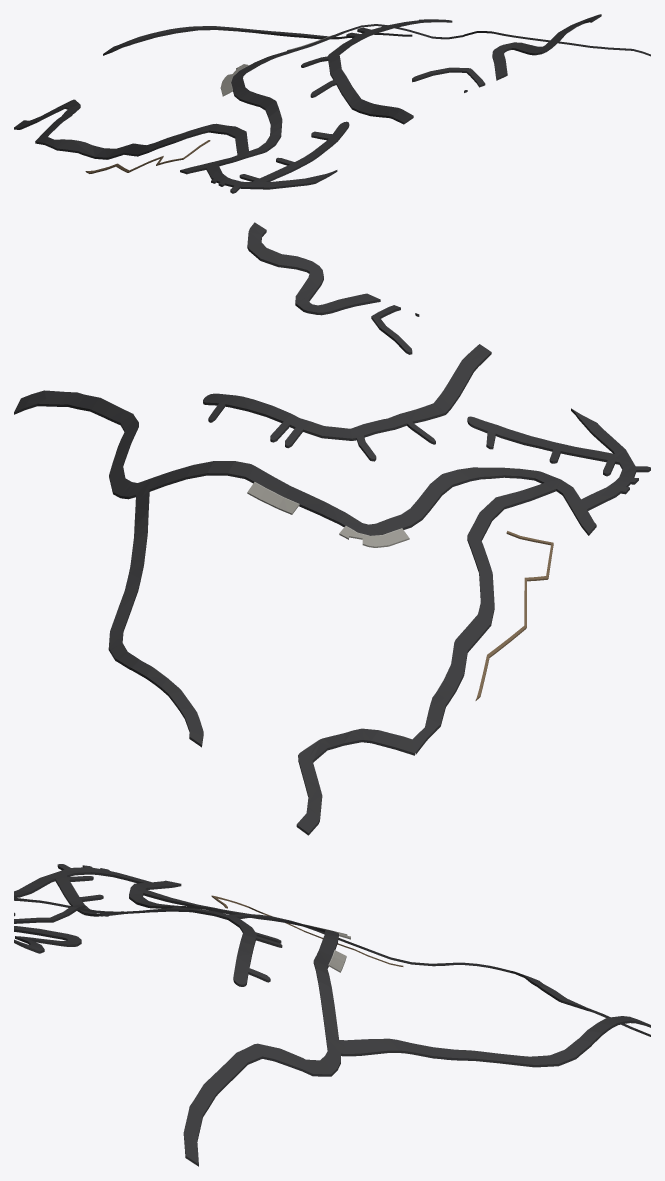
3 renders of one model, top to bottom at view 1: azimuth 30°, elevation 25°; view 2: azimuth 150°, elevation 25°; view 3: azimuth 270°, elevation 25°, orthographic. The views are drawn at different scales.
Size of the model in its own units: 293 by 140 by 292.
